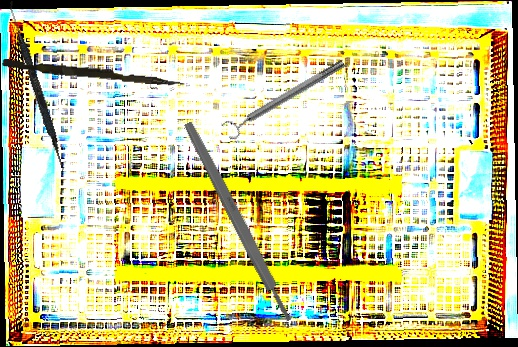Fixation Ring: (220, 54, 350, 142)
Pusher: (1, 59, 187, 87)
Scalpel Handle: (181, 119, 295, 325)
Spatula Surgical: (2, 0, 71, 172)
